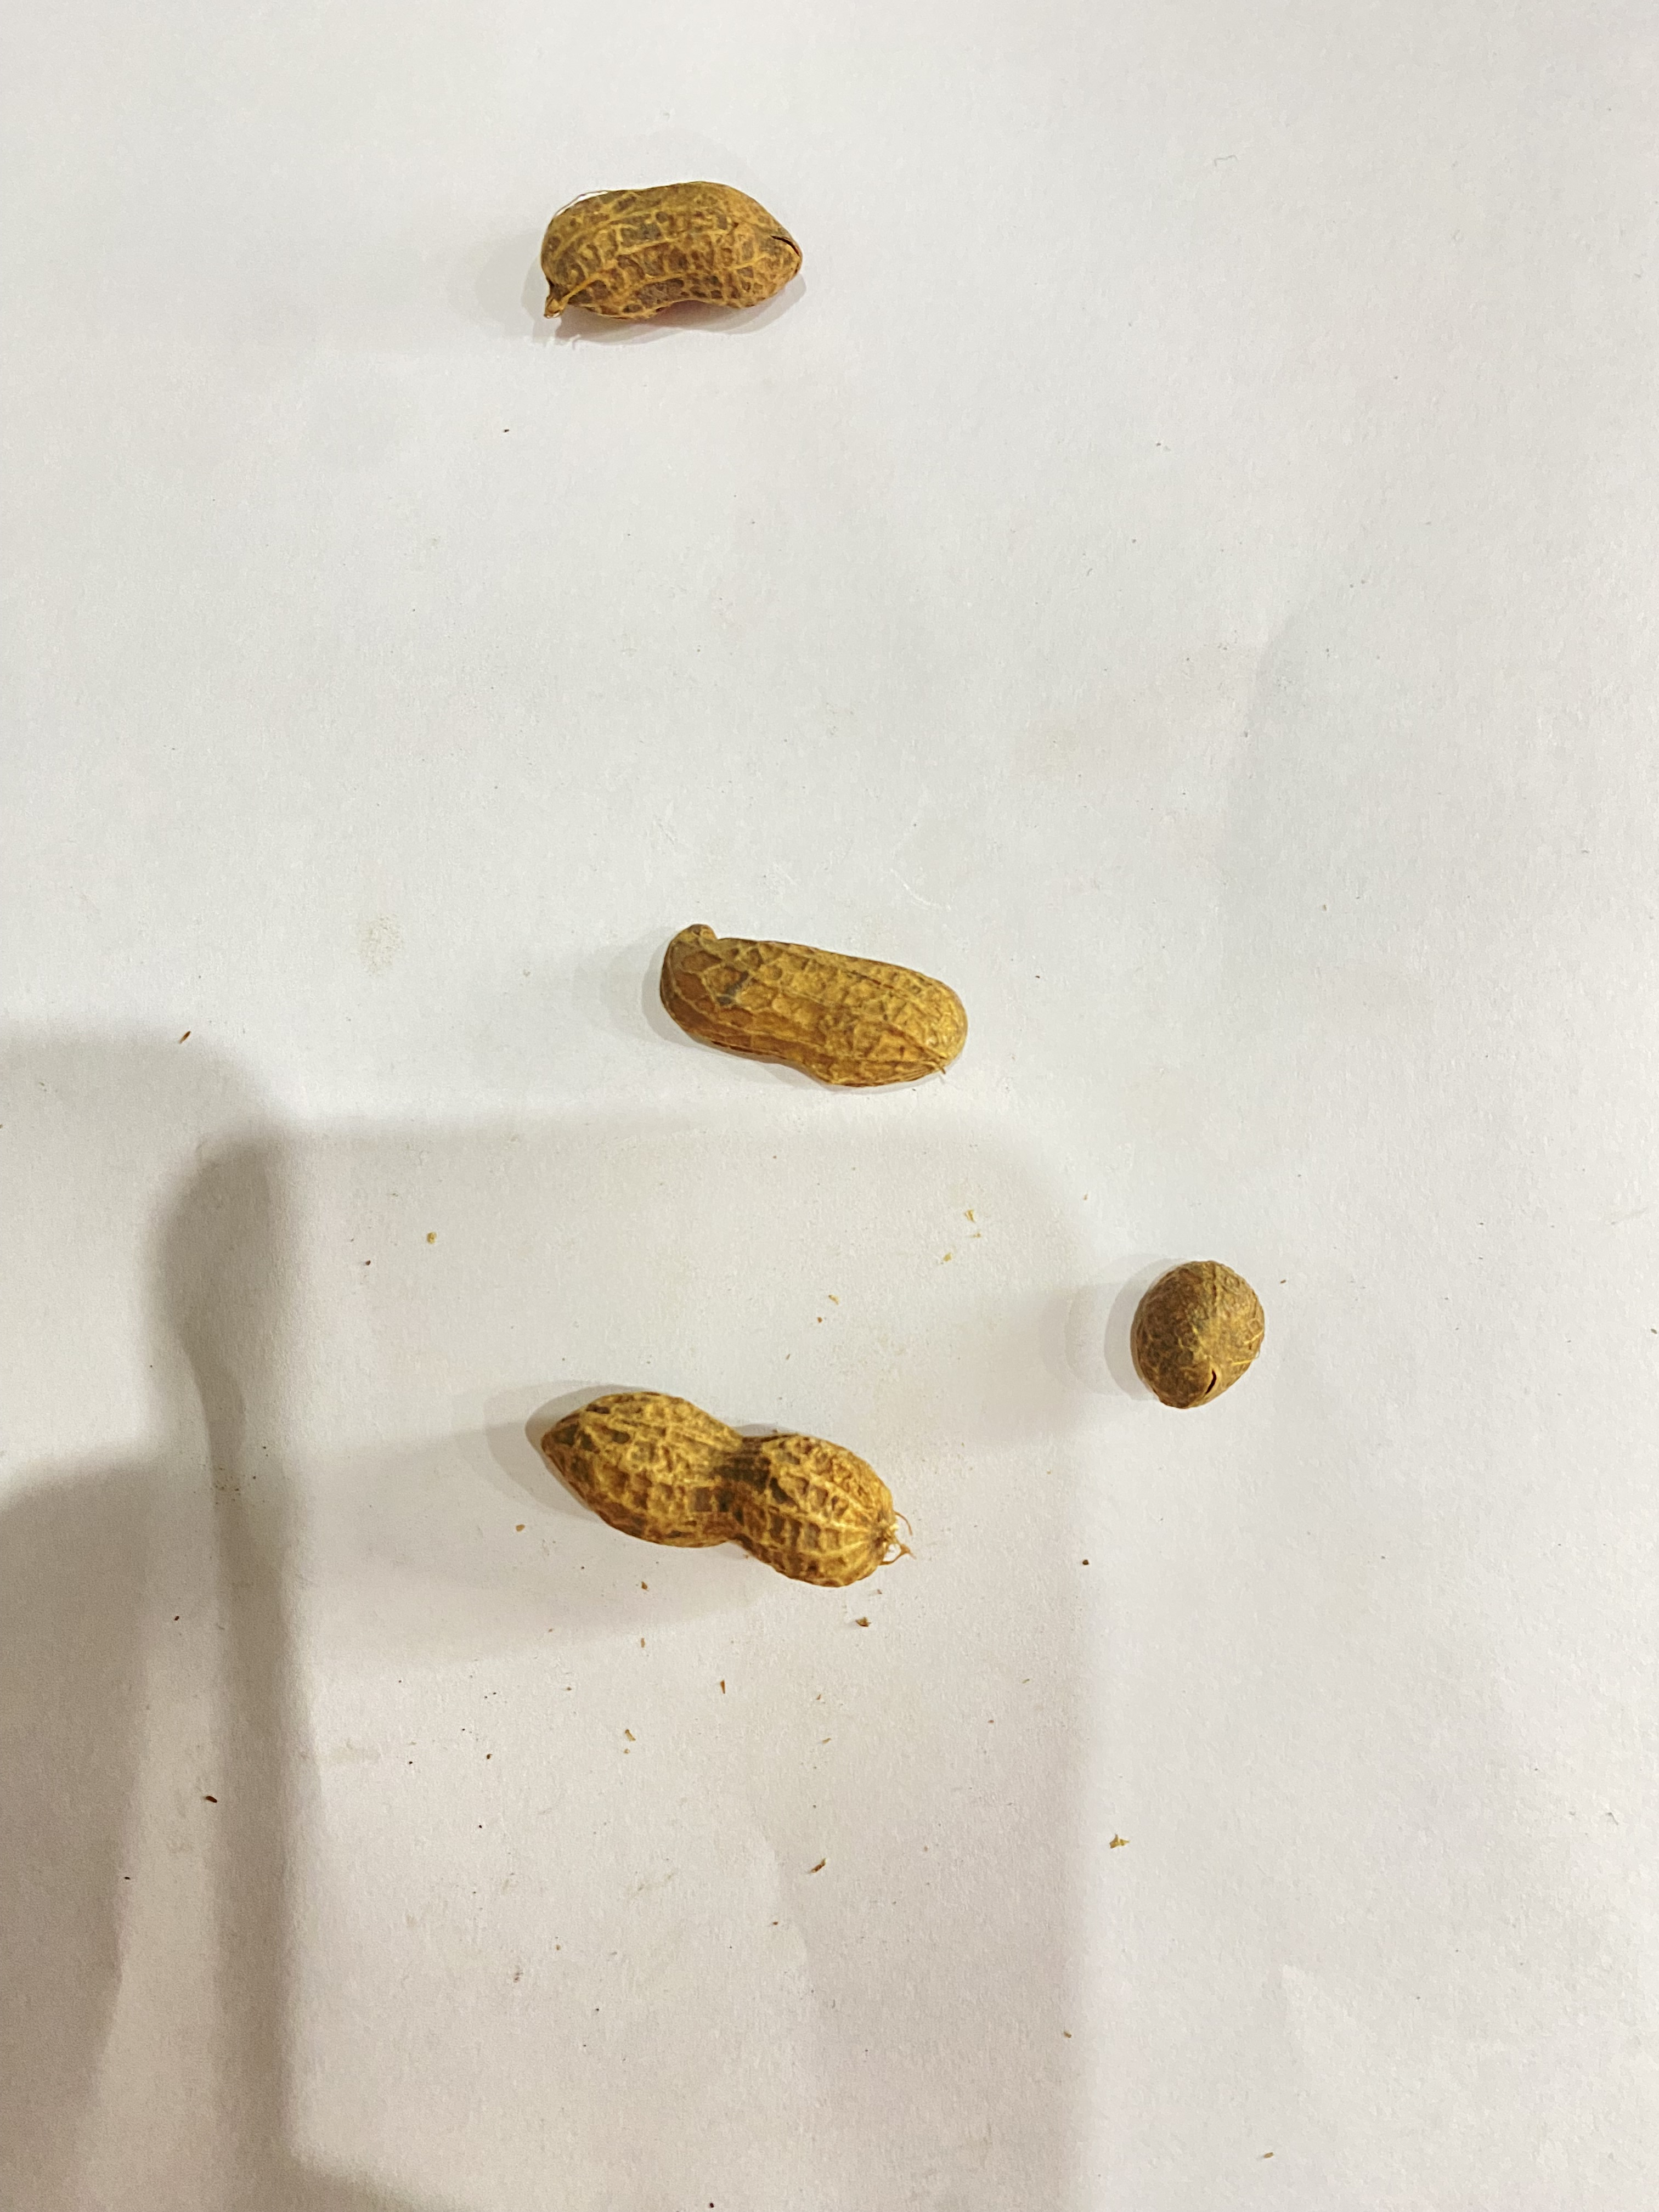kacang1: (1105, 1244, 1331, 1428)
kacang2: (498, 1364, 941, 1620), (615, 897, 988, 1109), (491, 174, 828, 345)
